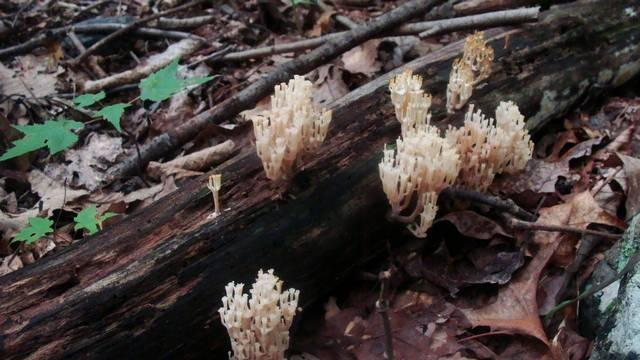Edible Mushroom: (377, 67, 534, 238), (240, 73, 333, 185), (377, 123, 462, 238), (216, 267, 300, 359), (444, 29, 494, 113), (387, 67, 432, 135), (206, 172, 222, 217)
